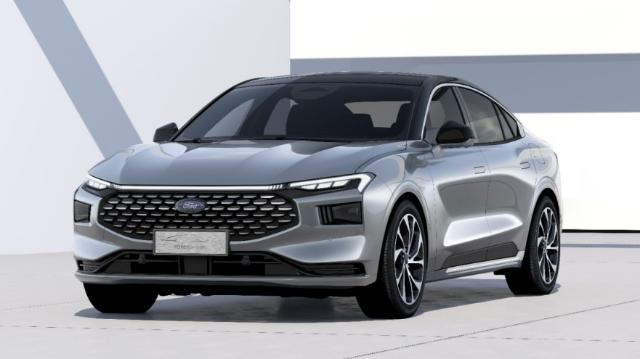ford: (71, 70, 562, 320)
